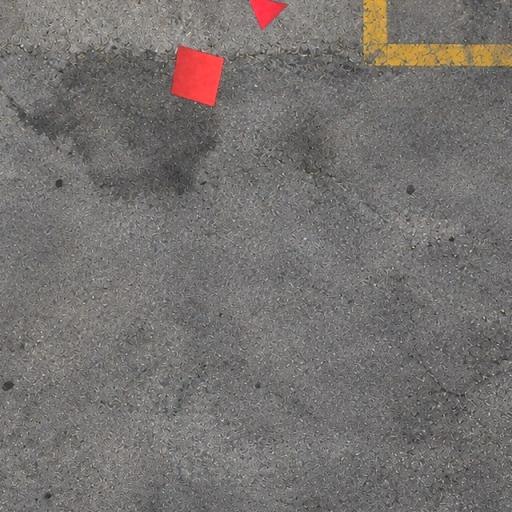RED_SQUARE: (170, 45, 226, 108)
